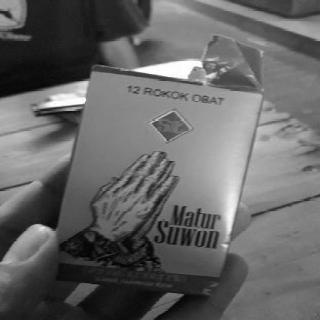objects: (58, 66, 264, 294)
